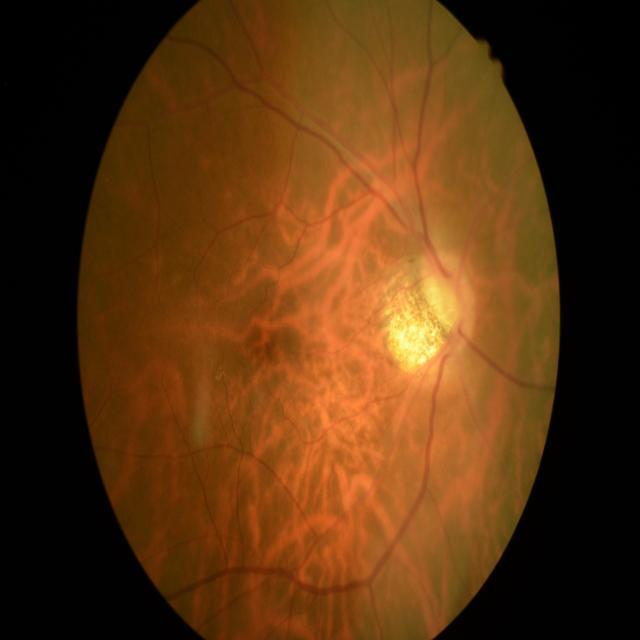cup: (426, 268, 460, 324)
disk: (422, 250, 476, 332)
